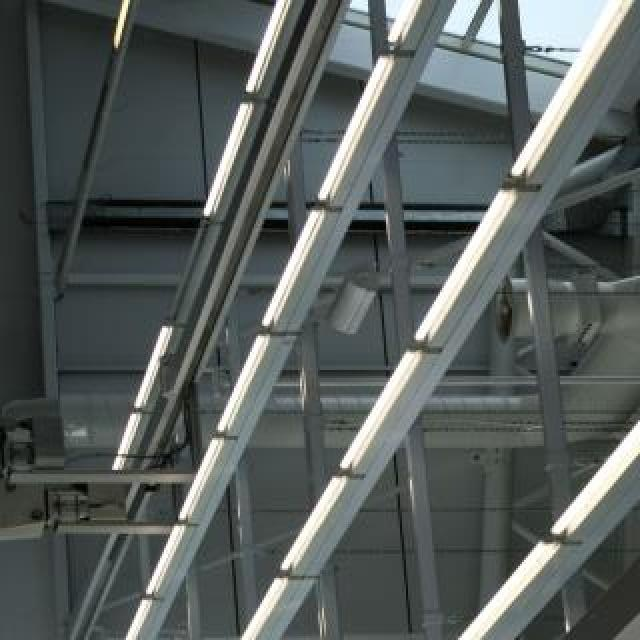fluorescent tube: (472, 0, 640, 194), (520, 328, 640, 554), (387, 178, 529, 366), (296, 36, 409, 225), (422, 528, 612, 640), (313, 335, 447, 489), (255, 189, 347, 353), (198, 305, 300, 447), (251, 473, 374, 585), (194, 552, 330, 640), (180, 94, 260, 234), (221, 0, 304, 116), (158, 425, 238, 535), (109, 316, 180, 433), (120, 513, 207, 602), (362, 0, 438, 71), (95, 402, 145, 485), (100, 582, 166, 640), (172, 638, 282, 640)
